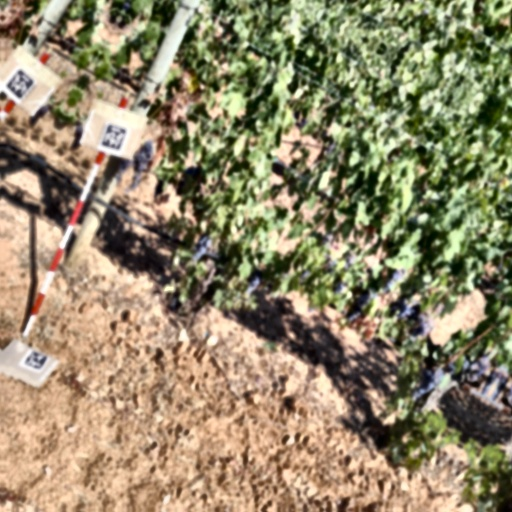QR: (97, 123, 128, 154), (22, 348, 47, 374)
